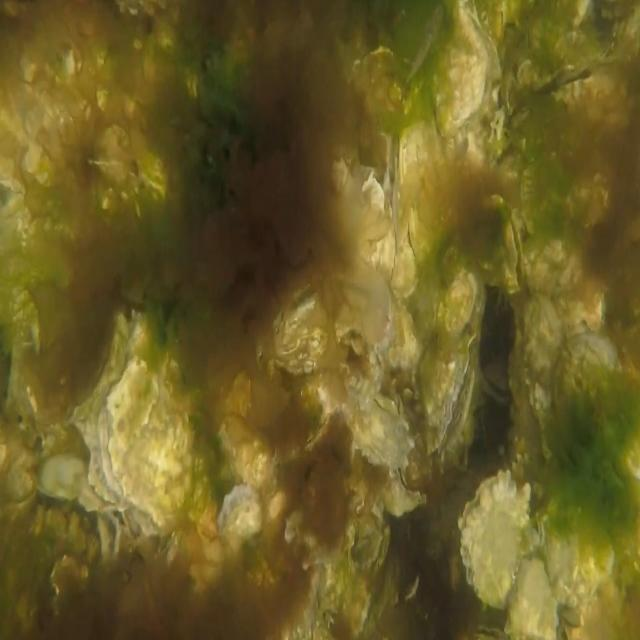Oyster-Closed: (535, 494, 621, 616), (340, 378, 416, 470), (423, 333, 479, 455), (384, 460, 428, 512)
Oyster-Indeterminate: (98, 359, 195, 538), (551, 325, 640, 475), (459, 464, 532, 606), (431, 0, 488, 142), (260, 280, 344, 376), (398, 120, 451, 270), (521, 290, 566, 458), (439, 266, 485, 348), (389, 174, 418, 301), (219, 479, 262, 541)
Oyster-Open: (502, 211, 528, 292)
